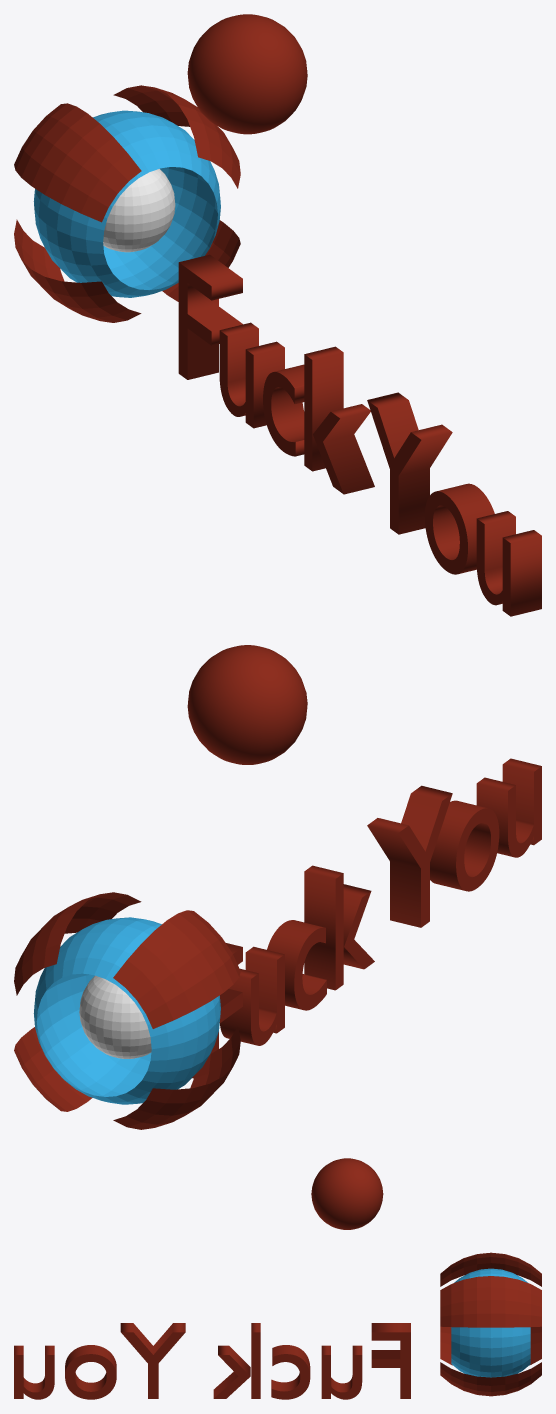
3 renders of one model, top to bottom at view 1: azimuth 30°, elevation 25°; view 2: azimuth 150°, elevation 25°; view 3: azimuth 270°, elevation 25°, orthographic. The views are drawn at different scales.
Visible parts, largest first — view 1: Text, Sphere, Sphere.001, Sphere.002, Sphere.start; view 2: Text, Sphere, Sphere.001, Sphere.002, Sphere.start; view 3: Text, Sphere, Sphere.001, Sphere.002.
Boxes of the visible parts, x1,y1,x2,y2 form: Text: (178,254,541,616); Sphere: (14,85,240,322); Sphere.001: (33,110,220,297); Sphere.002: (187,14,307,134); Sphere.start: (103,169,175,252); Text: (192,758,541,1078); Sphere: (14,892,240,1129); Sphere.001: (33,917,220,1104); Sphere.002: (187,645,307,764); Sphere.start: (79,975,151,1058); Text: (14,1323,410,1399); Sphere: (440,1252,541,1396); Sphere.001: (451,1268,530,1377); Sphere.002: (311,1158,383,1229).
Size of what is drawn, in the model's own units: 1.85 by 3.58 by 7.34.
